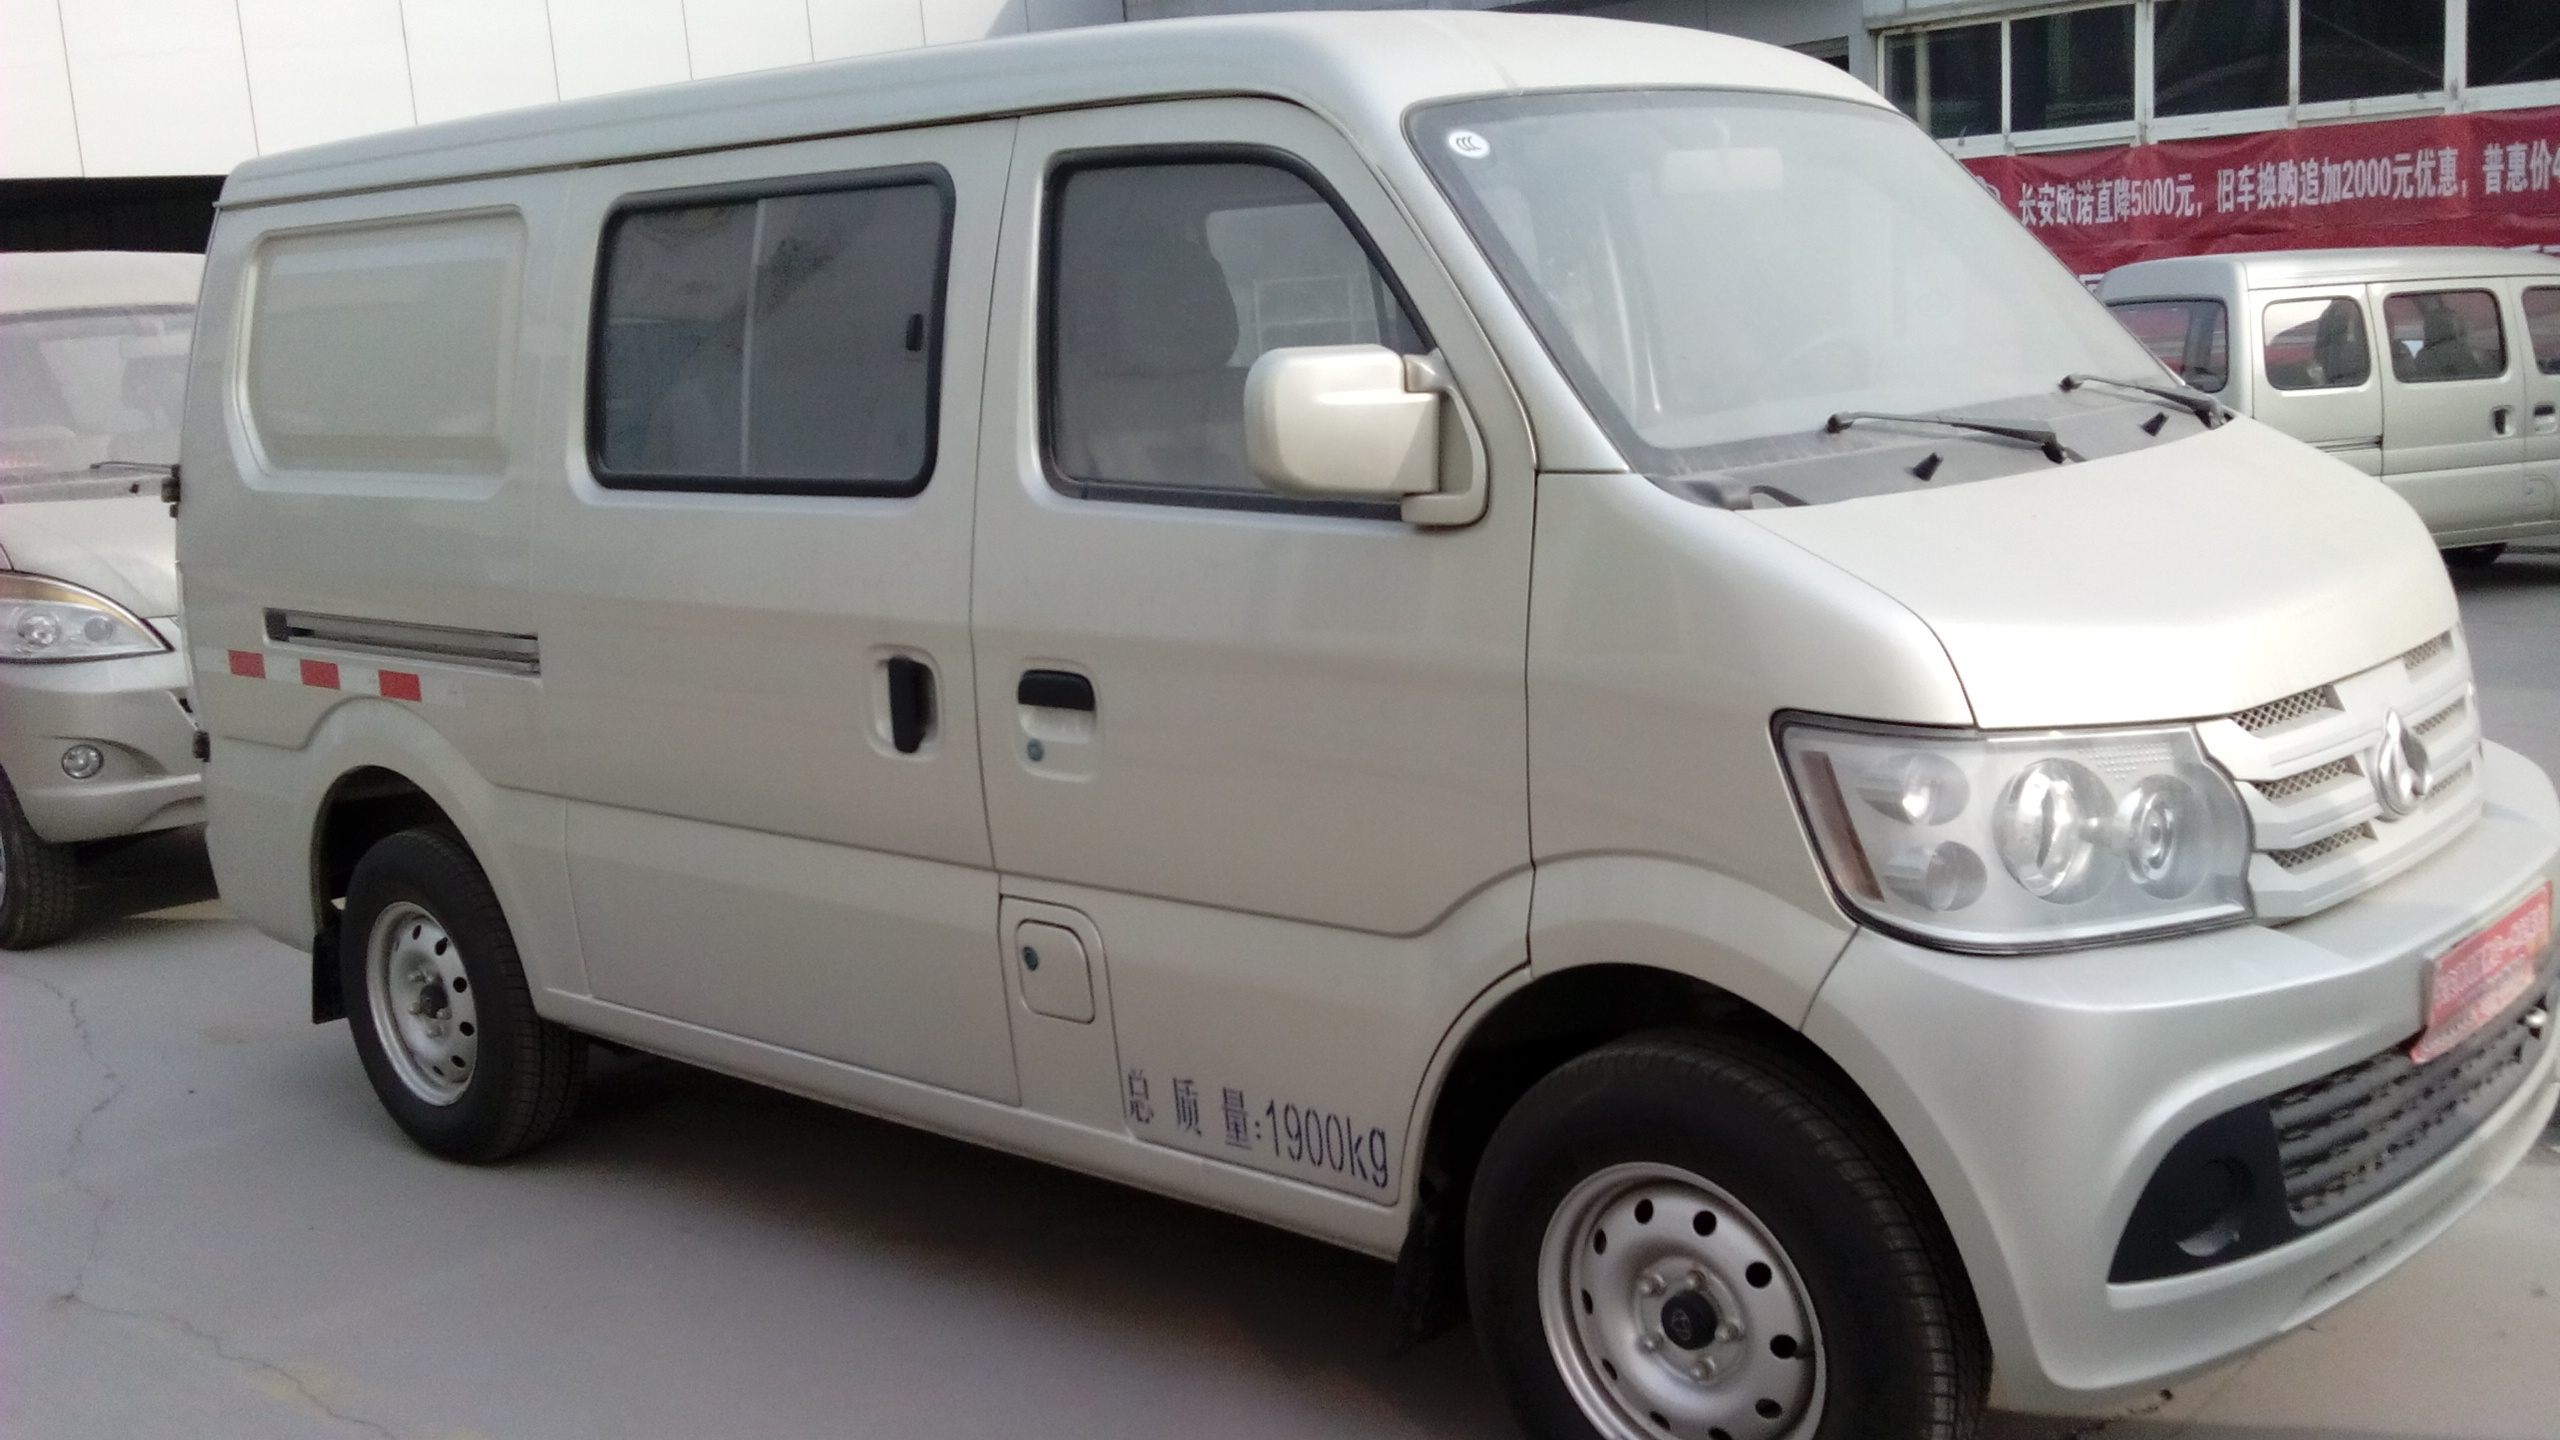minibus: (178, 81, 2537, 1428)
